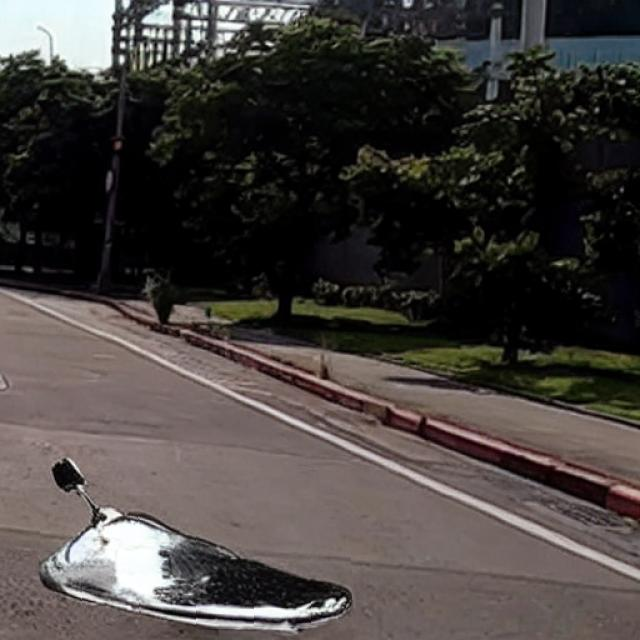puddle: (41, 509, 352, 631)
